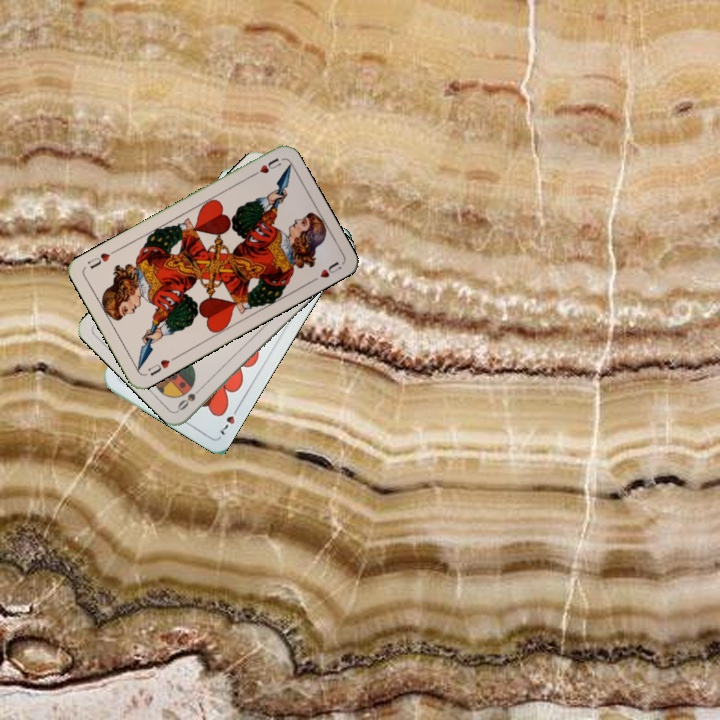H7: (216, 402, 242, 438)
HU: (247, 153, 284, 180), (144, 353, 179, 379)
SO: (173, 381, 207, 413)
